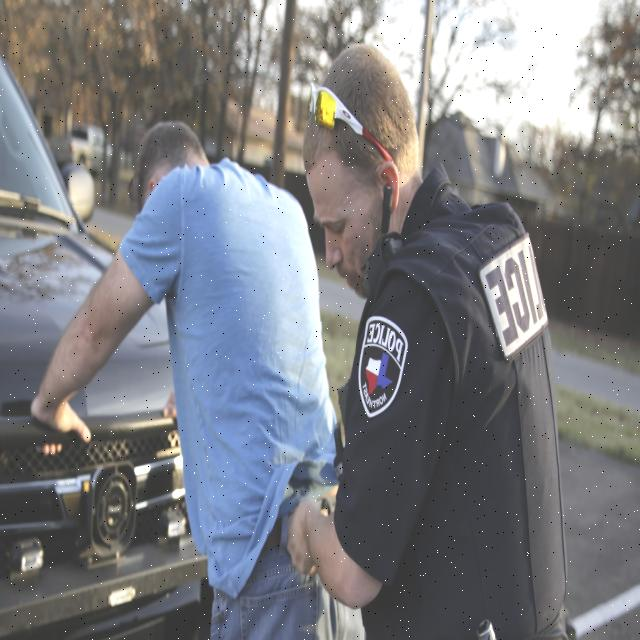police: (318, 17, 564, 640)
